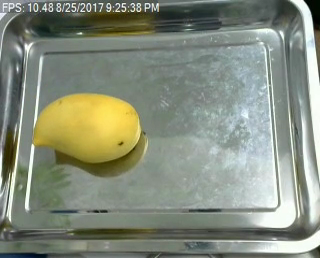Mango: (31, 91, 144, 165)
